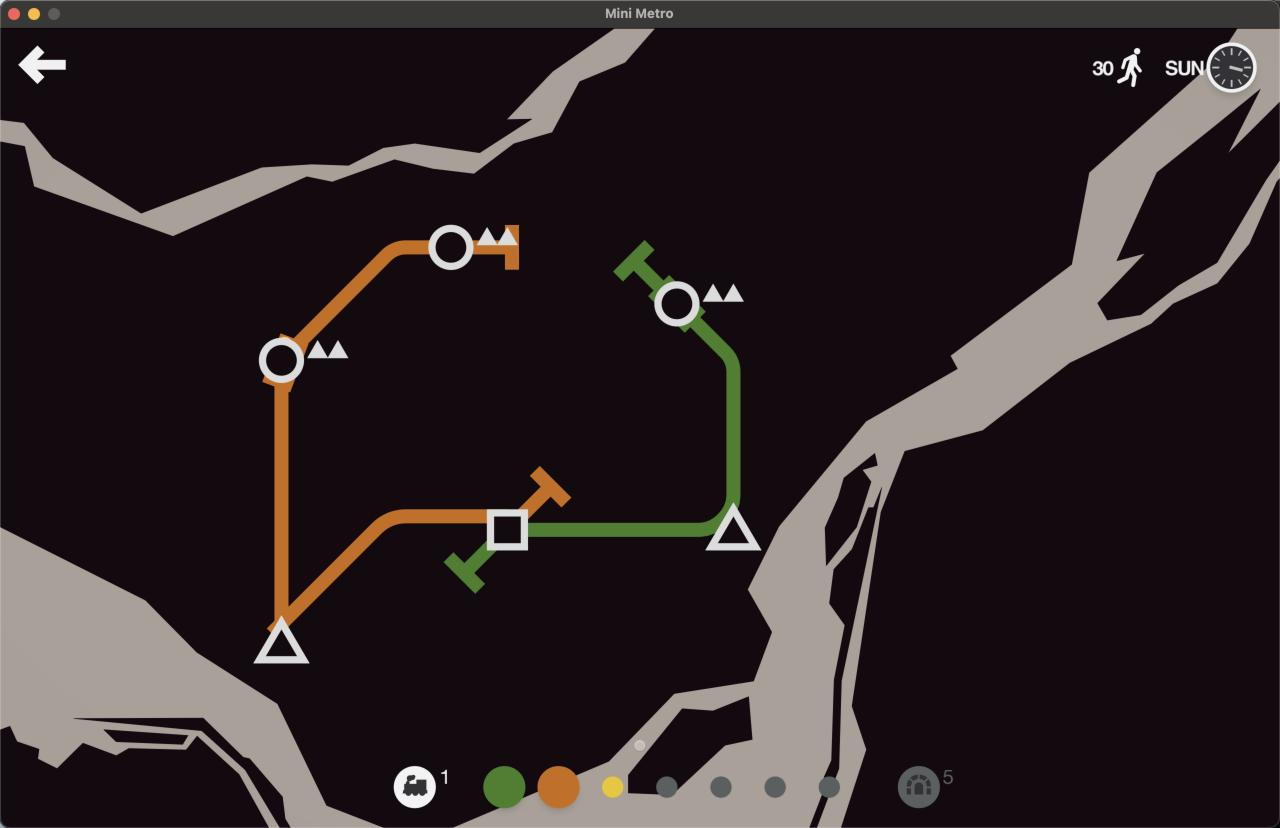CIRCLE: (257, 335, 306, 384), (427, 223, 475, 270), (653, 280, 702, 326)
SQUARE: (486, 508, 529, 551)
TRIANGLE: (705, 500, 763, 552), (253, 613, 311, 665)
